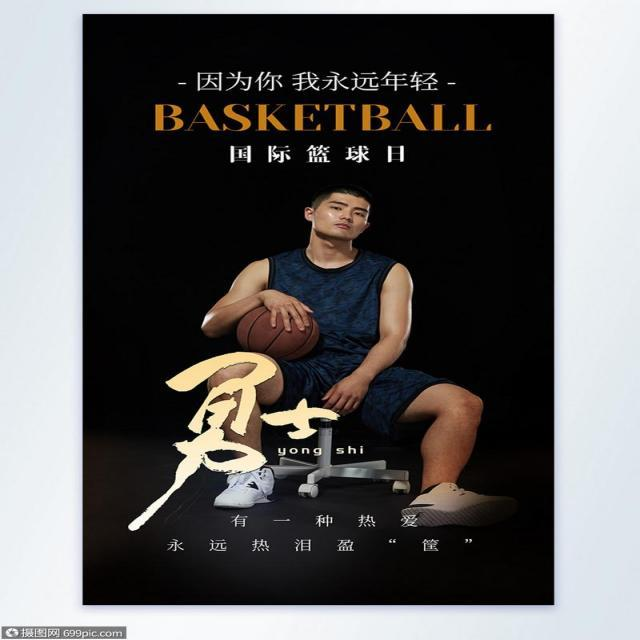rim: (242, 308, 320, 360)
